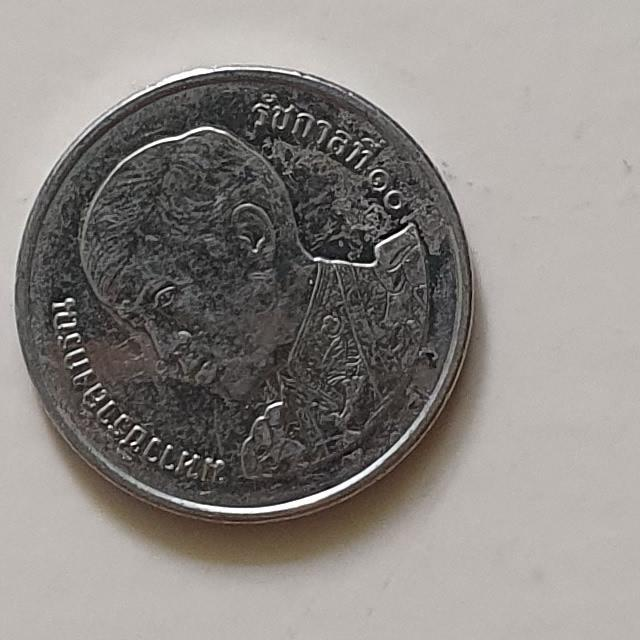1 Bath: (11, 57, 491, 530)
